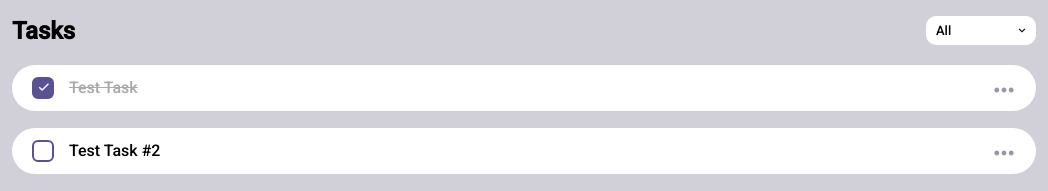
Test: should filter list
This screenshot has width=1048, height=191.
// Open filter dropdown & apply filtering
Click the text "All".
click(944, 31)  # box 936,23 -> 951,38
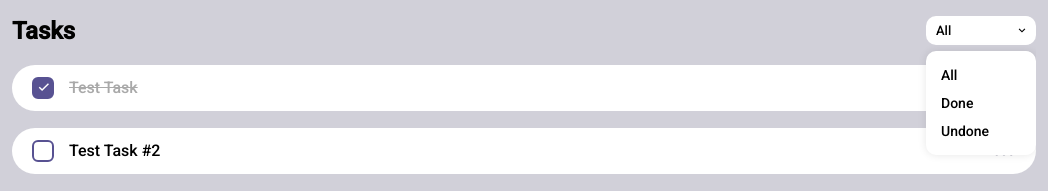
Click the text "Done".
click(957, 103)  # box 941,95 -> 973,111
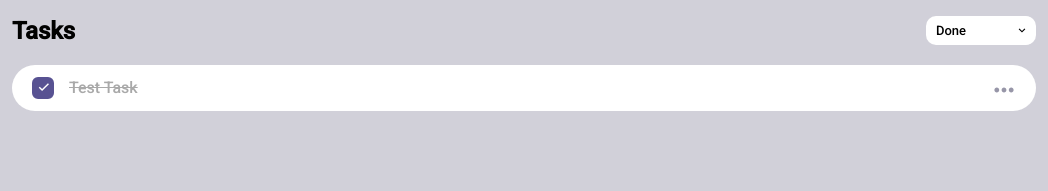
Expected: the text "Test Task" is shown, 69,78 -> 138,97
Now the text "Test Task #2" is gone
